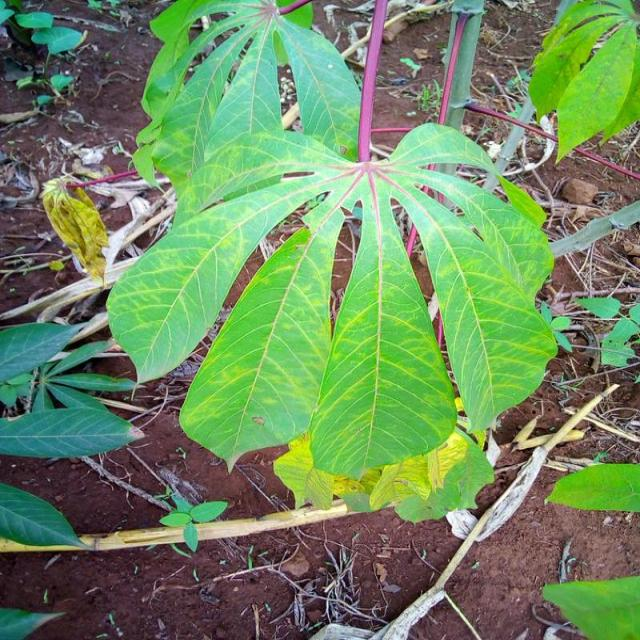cassava leaf: (104, 2, 562, 519), (307, 171, 458, 481), (389, 164, 558, 433), (178, 202, 344, 474)
